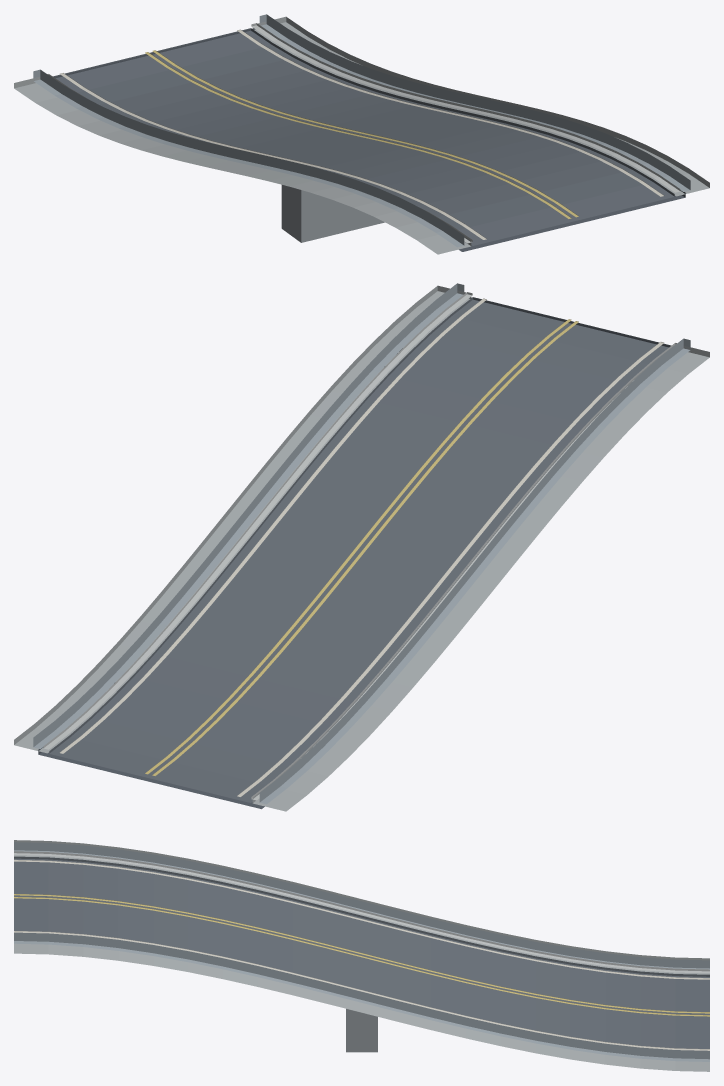
The model's file is bridge_ramp.glb.
3 renders of one model, top to bottom at view 1: azimuth 30°, elevation 25°; view 2: azimuth 150°, elevation 25°; view 3: azimuth 270°, elevation 25°, orthographic. The views are drawn at different scales.
Parts seen in each view (by area): view 1: bridge_ramp_asphalt, bridge_ramp_steel, bridge_ramp_pavement, bridge_ramp_concrete, bridge_ramp_white, bridge_ramp_curb, bridge_ramp_yellow, bridge_ramp_asphalt_dark; view 2: bridge_ramp_asphalt, bridge_ramp_pavement, bridge_ramp_steel, bridge_ramp_curb, bridge_ramp_white, bridge_ramp_yellow, bridge_ramp_asphalt_dark; view 3: bridge_ramp_asphalt, bridge_ramp_steel, bridge_ramp_pavement, bridge_ramp_white, bridge_ramp_curb, bridge_ramp_yellow, bridge_ramp_concrete.
Part boxes in pixels (box(x1,y1,x2,y2)): bridge_ramp_asphalt: box(53, 28, 674, 245); bridge_ramp_steel: box(33, 14, 690, 247); bridge_ramp_pavement: box(14, 16, 709, 254); bridge_ramp_concrete: box(281, 185, 384, 242); bridge_ramp_white: box(60, 29, 664, 239); bridge_ramp_curb: box(47, 23, 680, 243); bridge_ramp_yellow: box(145, 50, 578, 218); bridge_ramp_asphalt_dark: box(54, 28, 685, 251); bridge_ramp_asphalt: box(49, 297, 671, 802); bridge_ramp_pavement: box(14, 285, 709, 811); bridge_ramp_steel: box(33, 283, 690, 804); bridge_ramp_curb: box(43, 292, 676, 800); bridge_ramp_white: box(59, 298, 663, 796); bridge_ramp_yellow: box(145, 319, 578, 775); bridge_ramp_asphalt_dark: box(38, 297, 670, 809); bridge_ramp_asphalt: box(14, 856, 709, 1050); bridge_ramp_steel: box(14, 842, 709, 1061); bridge_ramp_pavement: box(14, 840, 709, 1071); bridge_ramp_white: box(14, 859, 709, 1050); bridge_ramp_curb: box(14, 851, 709, 973); bridge_ramp_yellow: box(14, 894, 709, 1016); bridge_ramp_concrete: box(346, 1009, 377, 1052).
Size of the model in its own units: 8.9 by 5.15 by 24.
